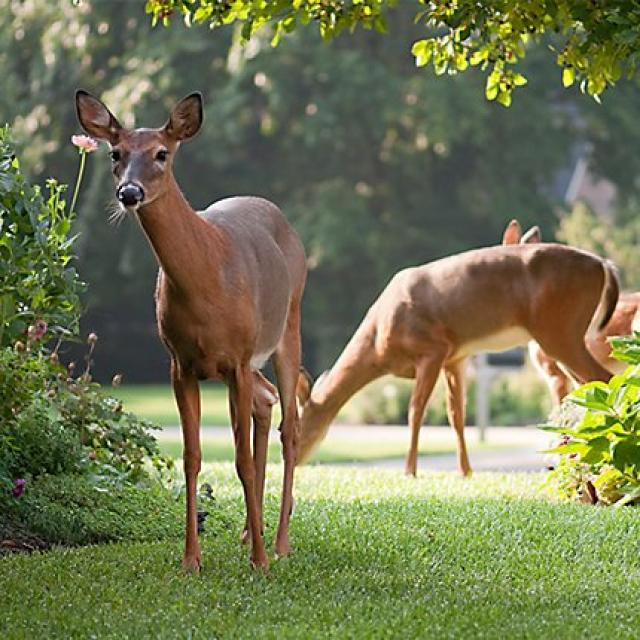not_pig: (72, 86, 311, 574), (277, 218, 629, 480)
